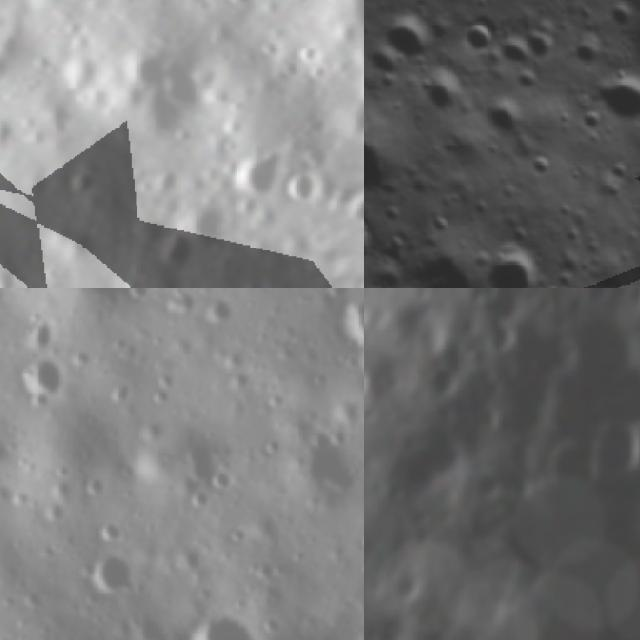crater: (425, 484, 640, 640), (291, 418, 364, 502), (364, 107, 415, 216), (399, 234, 495, 288), (377, 0, 448, 71), (474, 231, 560, 288), (225, 134, 291, 206), (587, 59, 640, 140), (594, 405, 640, 485), (419, 63, 479, 123), (16, 346, 78, 404), (182, 196, 242, 253), (176, 602, 260, 640), (175, 426, 228, 486), (58, 288, 158, 317), (78, 544, 140, 590), (149, 223, 202, 276), (480, 92, 532, 145), (277, 164, 333, 212), (364, 195, 395, 281), (364, 37, 410, 91), (458, 12, 507, 61), (517, 20, 564, 68), (389, 560, 433, 611), (520, 143, 566, 190), (562, 31, 607, 77), (572, 102, 612, 142), (599, 0, 640, 37), (496, 34, 534, 71), (341, 288, 364, 349), (509, 61, 546, 98), (602, 150, 638, 187), (364, 351, 382, 402)
